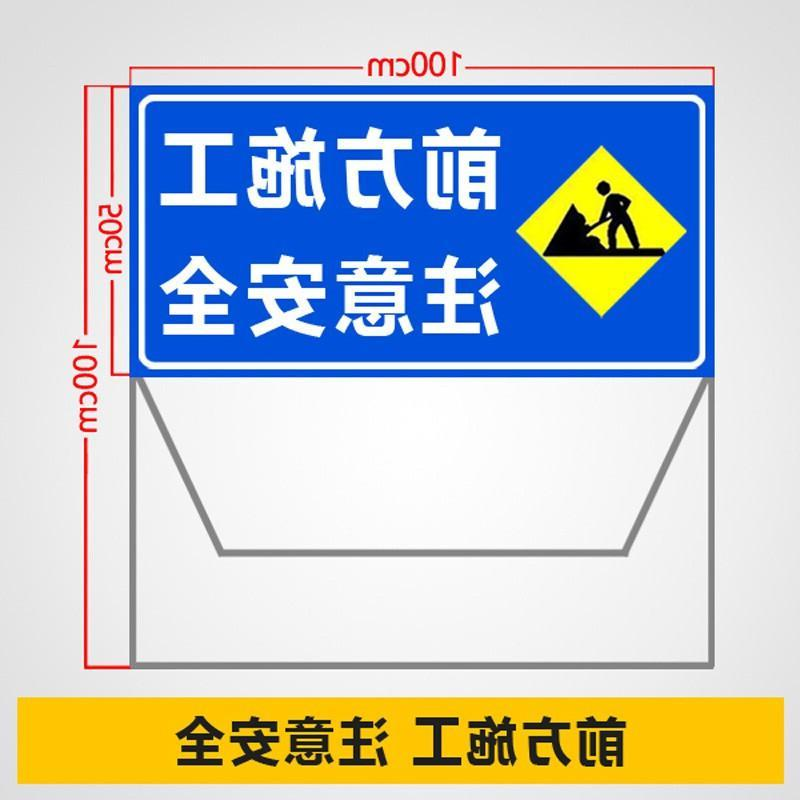sign: (130, 86, 711, 381)
